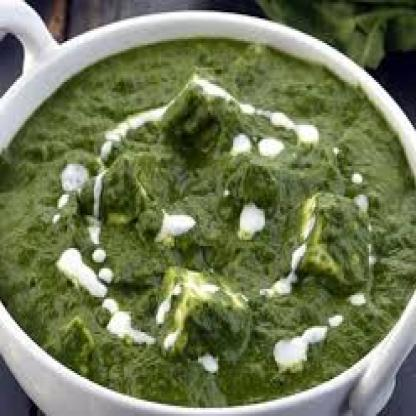palak_paneer: (0, 37, 416, 407)
